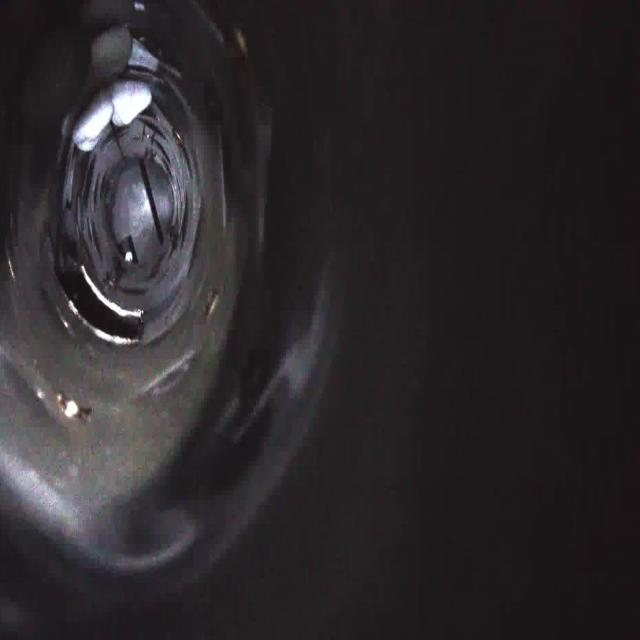crack: (177, 197, 215, 286), (166, 100, 203, 184), (122, 92, 170, 148), (63, 144, 102, 204), (70, 214, 102, 264), (98, 108, 134, 152), (117, 275, 157, 313)
hole: (49, 259, 148, 353)
